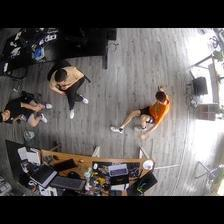fall: (110, 84, 174, 136)
normal: (48, 64, 92, 121)
